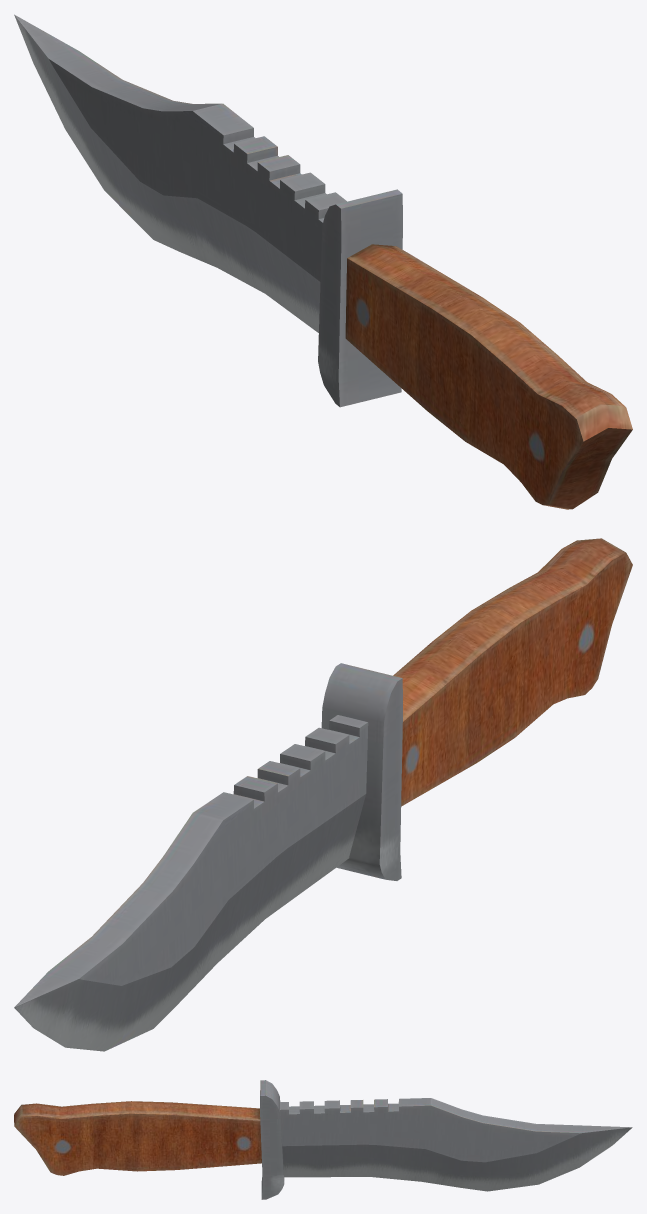
The model's file is bowie.glb.
The picture shows the model from 3 angles, top to bottom: view 1: azimuth 30°, elevation 25°; view 2: azimuth 150°, elevation 25°; view 3: azimuth 270°, elevation 25°; orthographic projection. The views are drawn at different scales.
Visible parts, largest first — view 1: bowie; view 2: bowie; view 3: bowie.
Boxes of the visible parts, left/top/right/bottom form: bowie: left=14, top=14, right=632, bottom=509; bowie: left=14, top=538, right=632, bottom=1051; bowie: left=14, top=1080, right=632, bottom=1199.
Bounding box in the file's own units: 0.021 × 0.0649 × 0.35.
1 material, 1 textured.
